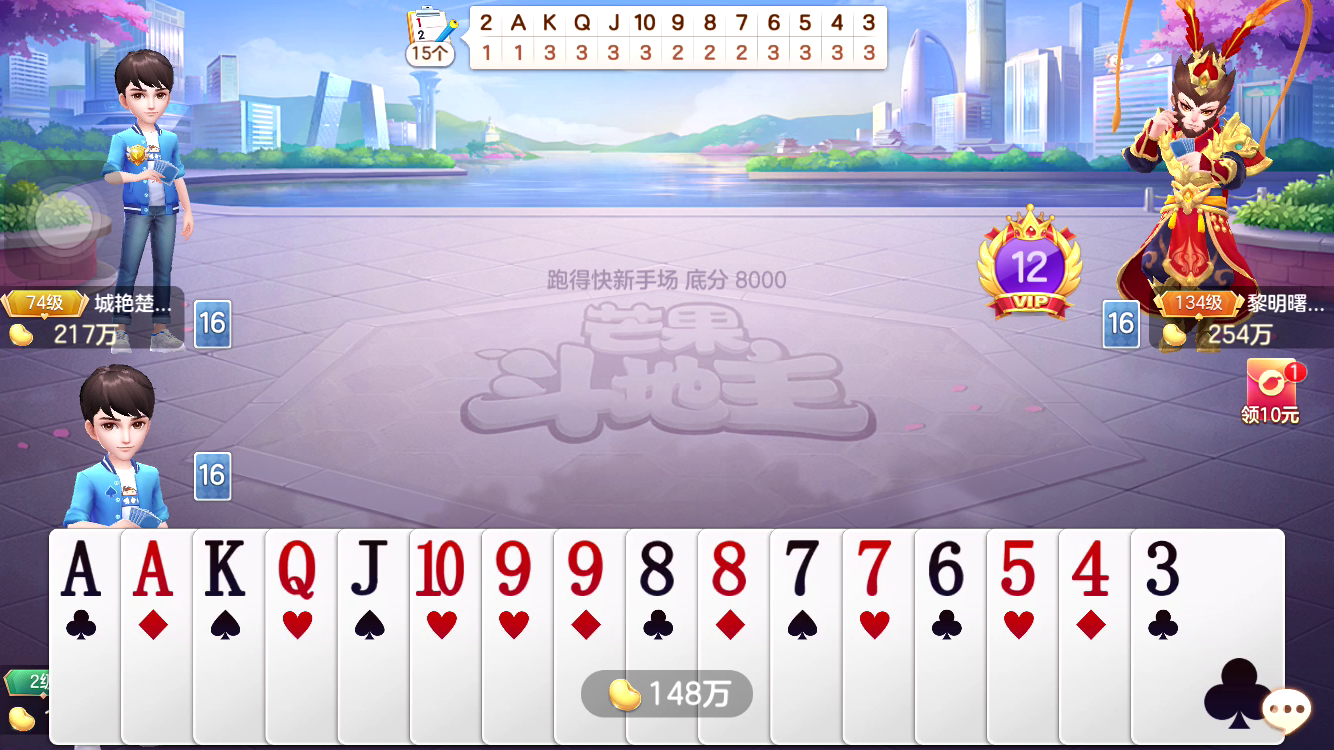A: (55, 532, 113, 603), (125, 537, 183, 604)
J: (343, 535, 393, 605)
K: (198, 536, 254, 605)
Q: (271, 537, 325, 603)
eight: (632, 535, 688, 605), (703, 537, 759, 603)
five: (993, 536, 1043, 602)
four: (1065, 535, 1119, 604)
nine: (558, 536, 614, 603), (488, 536, 543, 602)
seven: (774, 532, 830, 603), (847, 535, 900, 602)
six: (922, 534, 977, 603)
ten: (411, 535, 473, 602)
three: (1136, 535, 1192, 604)
